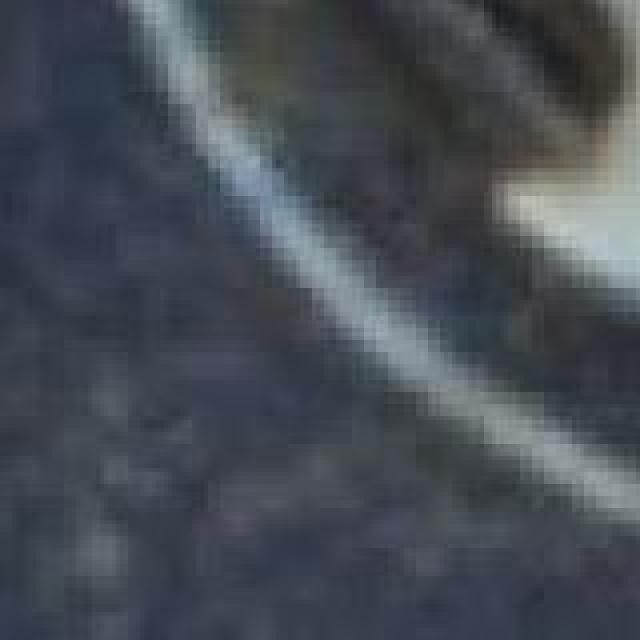switch: (44, 0, 640, 636)
